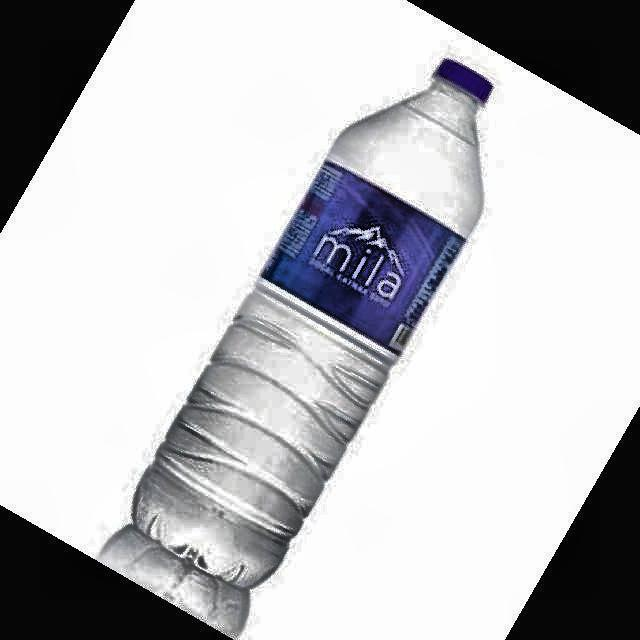plastic: (135, 61, 490, 587)
